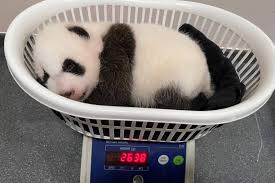panda: (18, 10, 264, 132)
